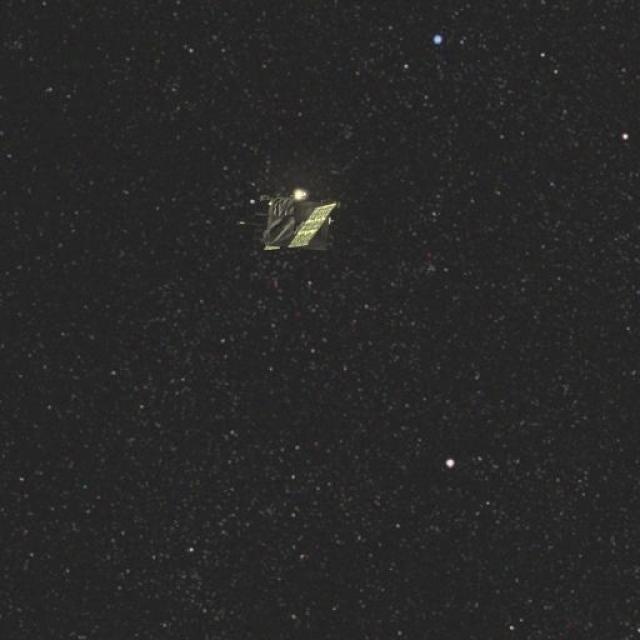smart_1: (218, 150, 374, 295)
